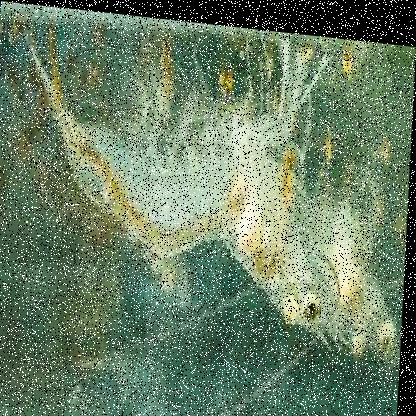shrimp: (16, 22, 370, 344)
